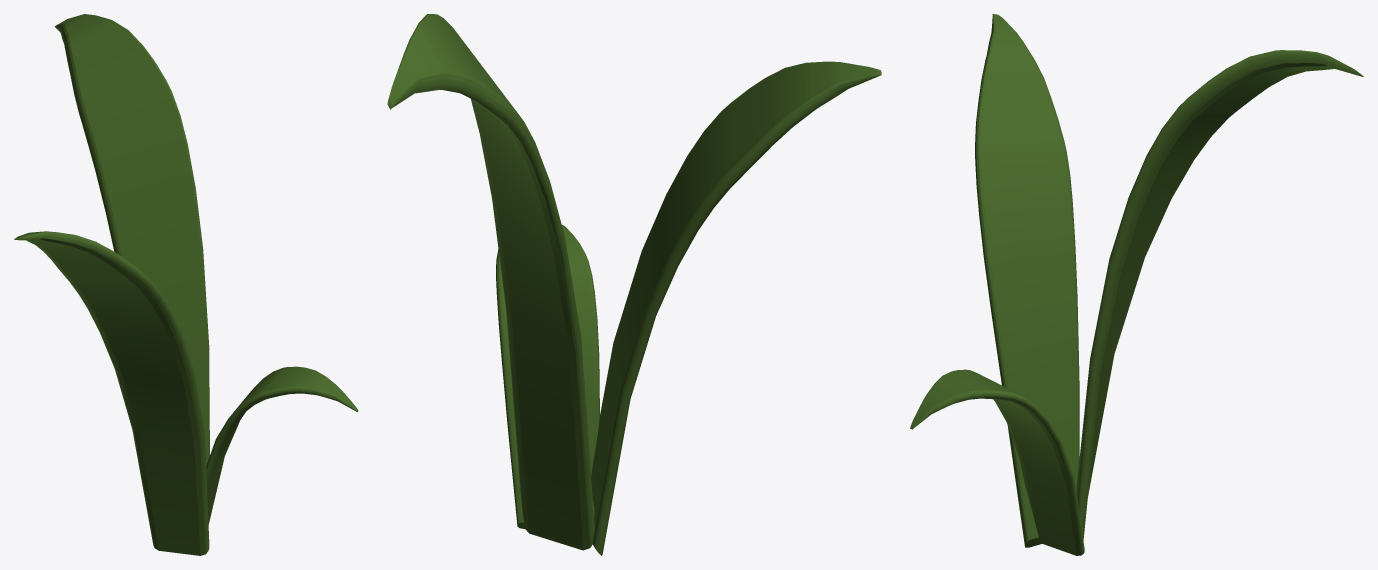
File: sprout-1.fbx
The picture shows the model from 3 angles, left to right: view 1: azimuth 30°, elevation 25°; view 2: azimuth 150°, elevation 25°; view 3: azimuth 270°, elevation 25°; orthographic projection. The views are drawn at different scales.
Visible parts, largest first — view 1: sprout-1; view 2: sprout-1; view 3: sprout-1.
Boxes of the visible parts, x1,y1,x2,y2 form: sprout-1: (14, 14, 358, 555); sprout-1: (387, 14, 881, 555); sprout-1: (910, 14, 1363, 555).
Bounding box in the file's own units: 223 × 315 × 254.
